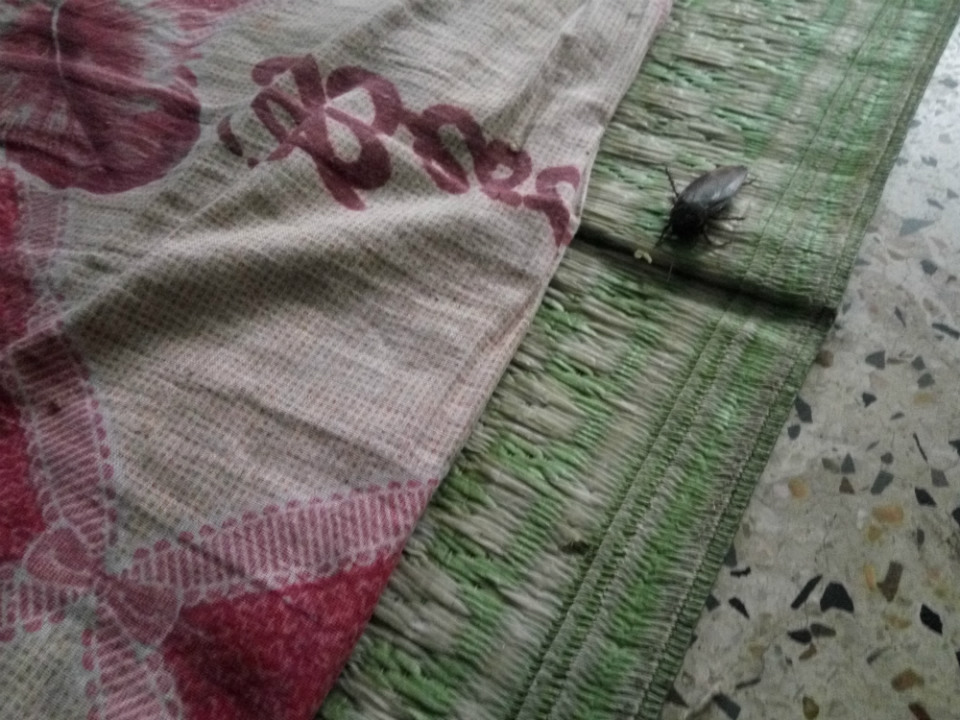cockroach: (616, 133, 793, 270)
